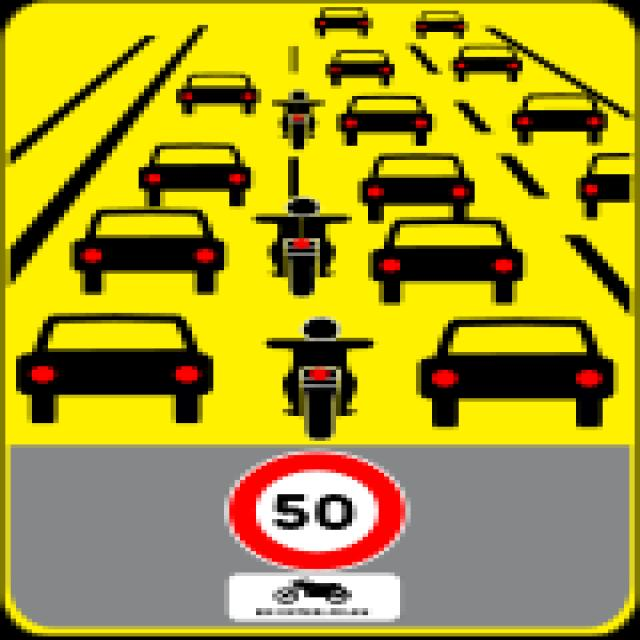speed_50: (220, 453, 410, 570)
